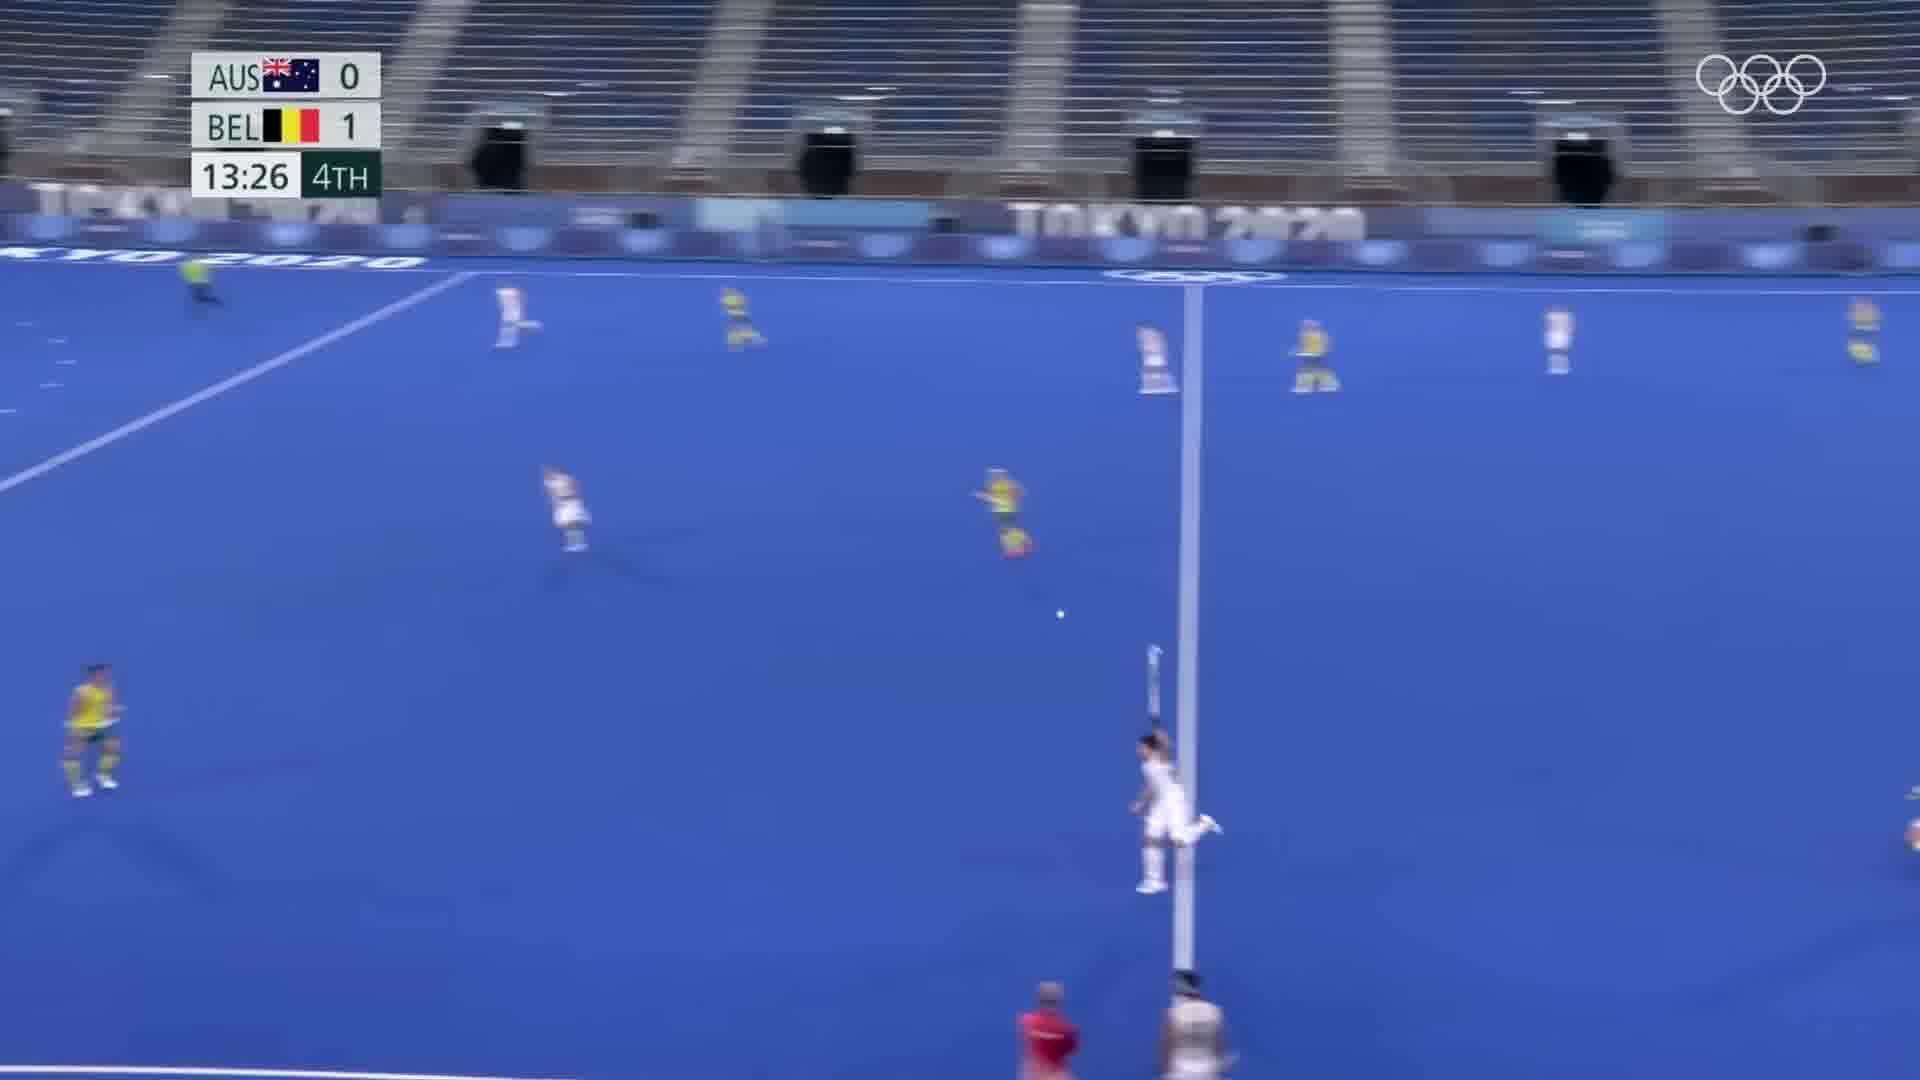ball: (1046, 599, 1077, 630)
